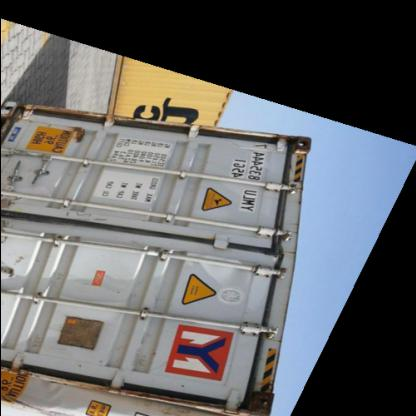Damage: (10, 373, 272, 415), (258, 196, 299, 270), (62, 120, 97, 150)
